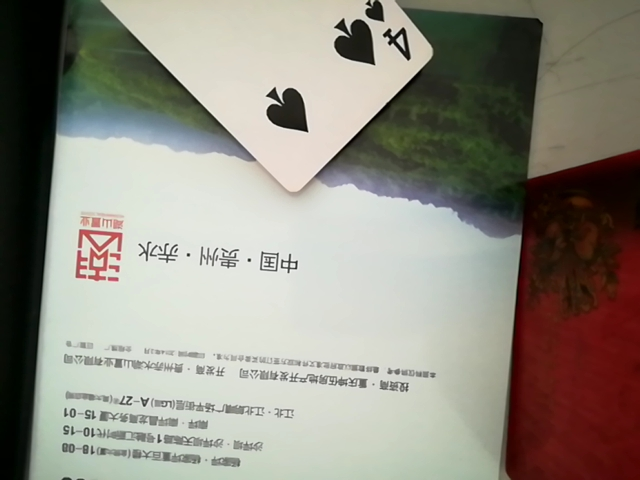ht 4: (66, 3, 445, 196)
